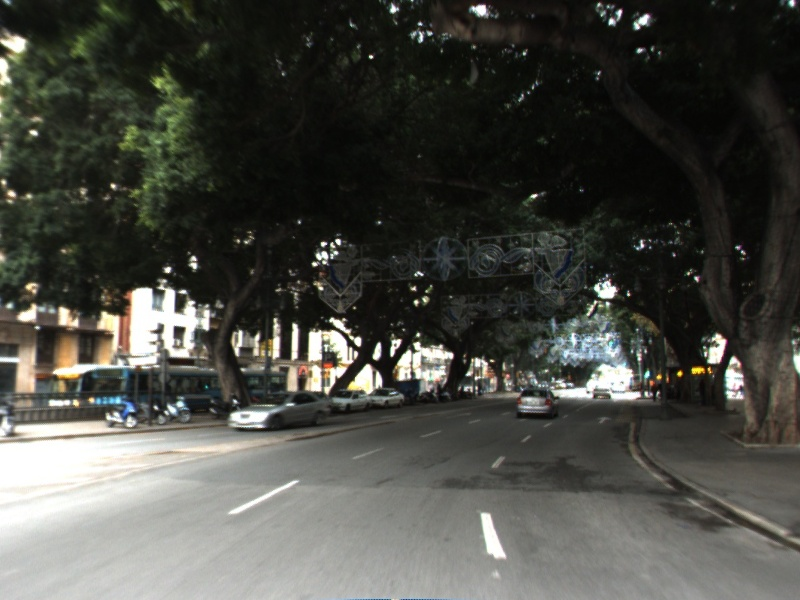STRAIGHT: (595, 414, 614, 426)
